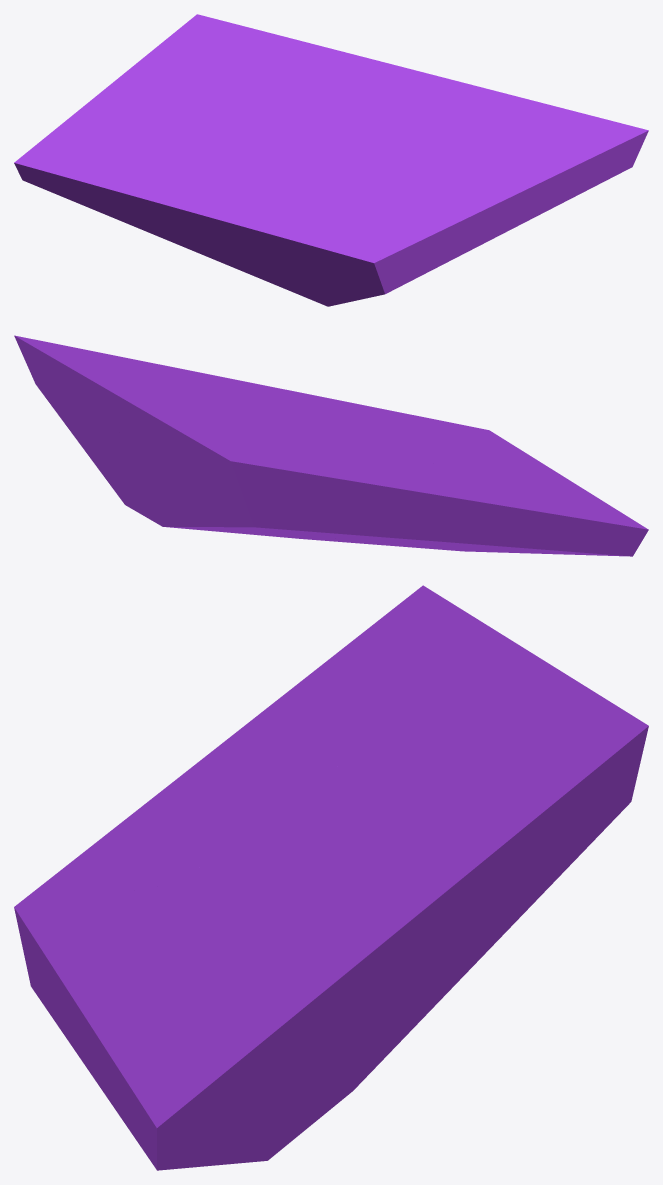
File: Window_151_6_chunks.fbx
The picture shows the model from 3 angles, top to bottom: view 1: azimuth 30°, elevation 25°; view 2: azimuth 150°, elevation 25°; view 3: azimuth 270°, elevation 25°; orthographic projection. The views are drawn at different scales.
Parts seen in each view (by area): view 1: Window_151_6_1, Window_151_6_2, Window_151_6_0, Window_151_6_3; view 2: Window_151_6_0, Window_151_6_1, Window_151_6_2, Window_151_6_3; view 3: Window_151_6_2, Window_151_6_0, Window_151_6_1, Window_151_6_3.
Boxes of the visible parts, bbox=[...] form: Window_151_6_1: bbox=[14, 106, 384, 306]; Window_151_6_2: bbox=[354, 82, 648, 294]; Window_151_6_0: bbox=[84, 14, 430, 191]; Window_151_6_3: bbox=[291, 38, 461, 97]; Window_151_6_0: bbox=[158, 398, 487, 539]; Window_151_6_1: bbox=[315, 428, 648, 556]; Window_151_6_2: bbox=[14, 335, 476, 544]; Window_151_6_3: bbox=[103, 387, 368, 538]; Window_151_6_2: bbox=[17, 882, 360, 1170]; Window_151_6_0: bbox=[180, 639, 648, 936]; Window_151_6_1: bbox=[14, 585, 509, 974]; Window_151_6_3: bbox=[328, 740, 645, 1111].
Bounding box in the file's own units: 614 × 184 × 355.
